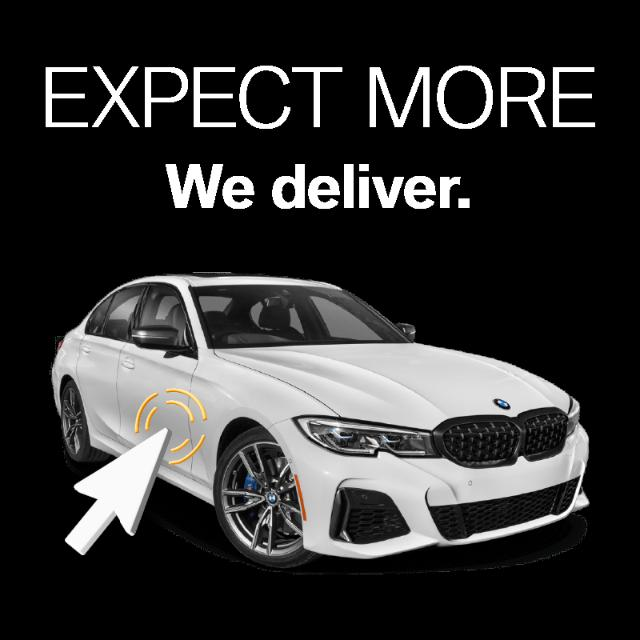bmw: (50, 271, 590, 569)
